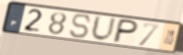2: (23, 8, 43, 34)
7: (140, 22, 162, 47)
8: (47, 10, 69, 36)
P: (111, 18, 141, 44)
S: (69, 13, 93, 40)
U: (89, 14, 118, 43)
